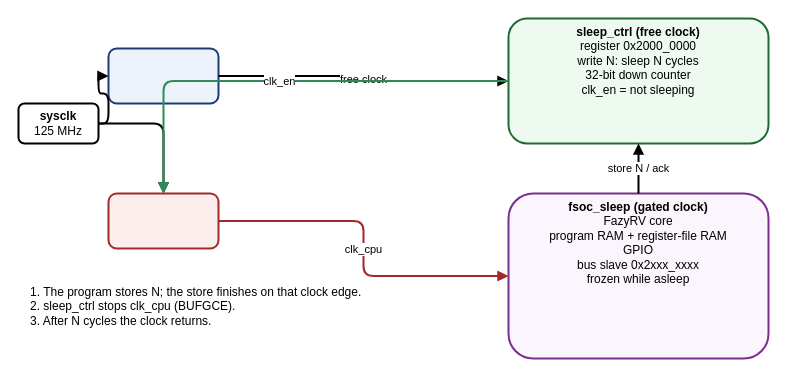
This 786x376 diagram has some shape labels left out. The centre of each missing label's shape, as x and y in pixels:
"BUFG free clock" goes at (x=163, y=75).
"BUFGCE gated clock" goes at (x=163, y=220).
